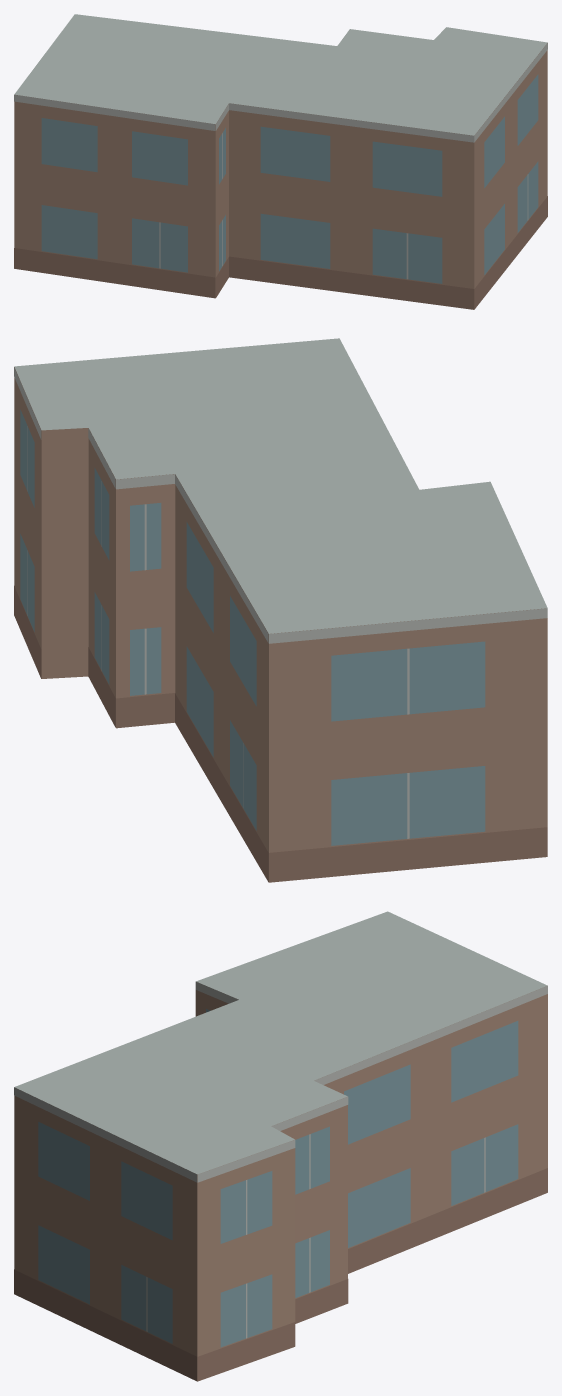
Rendered from survey-upis-32492795.glb.
3 renders of one model, top to bottom at view 1: azimuth 30°, elevation 25°; view 2: azimuth 150°, elevation 25°; view 3: azimuth 270°, elevation 25°, orthographic. The views are drawn at different scales.
Visible parts, largest first — view 1: survey-upis-32492795.tmp; view 2: survey-upis-32492795.tmp; view 3: survey-upis-32492795.tmp.
Boxes of the visible parts, box(x1,y1,x2,y2) form: survey-upis-32492795.tmp: box(14, 14, 547, 309); survey-upis-32492795.tmp: box(14, 338, 547, 882); survey-upis-32492795.tmp: box(14, 911, 547, 1381).
Size of the model in its own units: 16.64 by 6.1 by 14.26.
